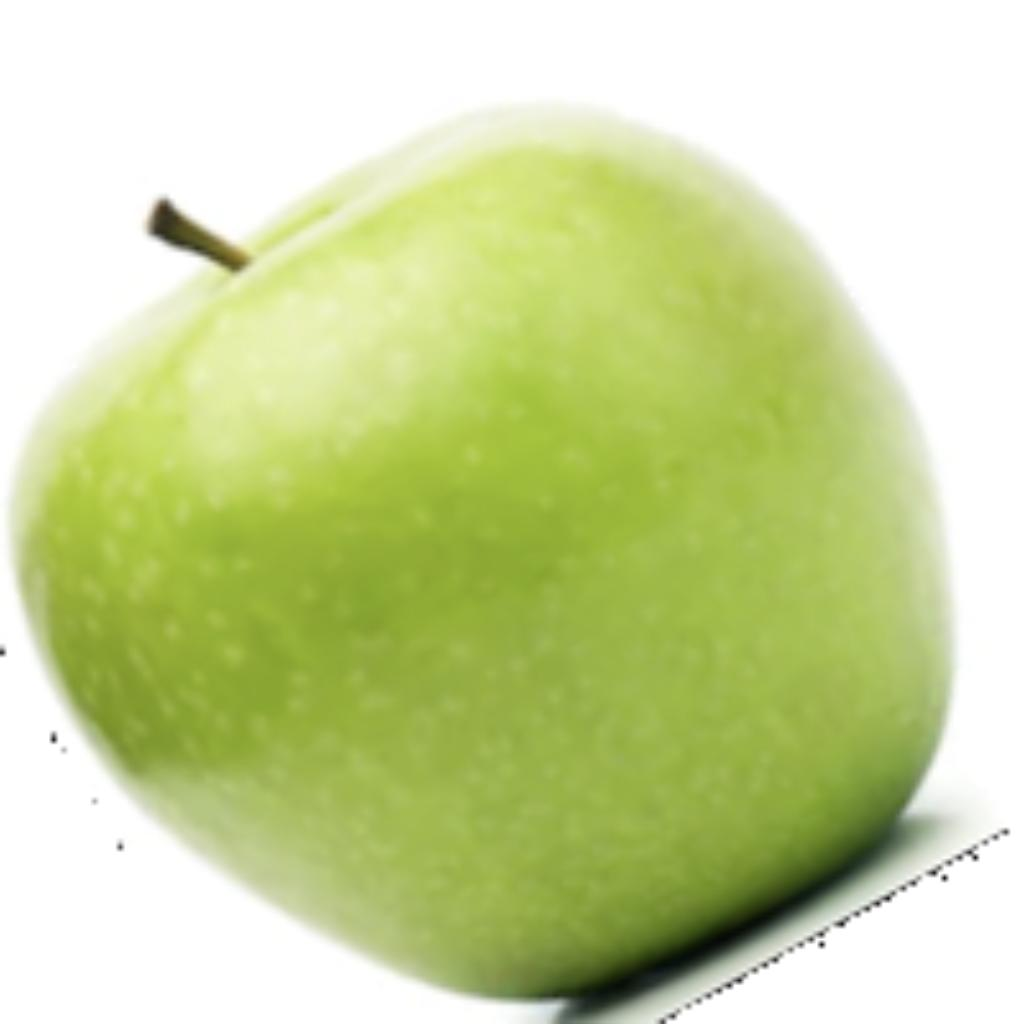apple: (0, 92, 998, 1019)
